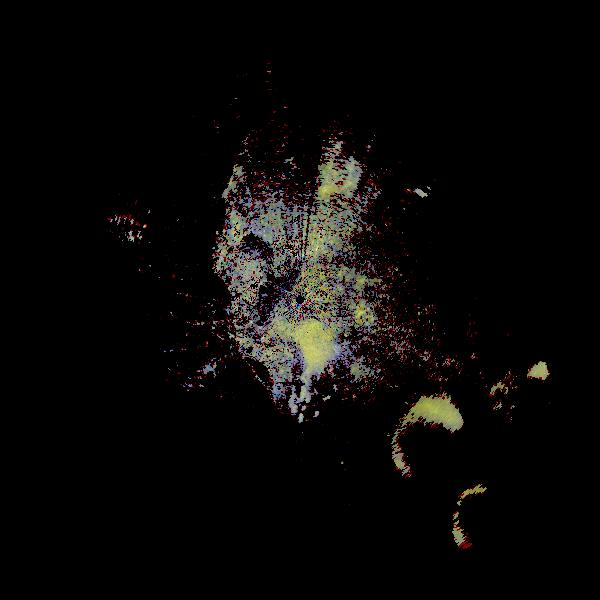roost: (368, 366, 545, 543), (224, 303, 368, 447), (434, 461, 566, 593), (483, 348, 600, 471)
